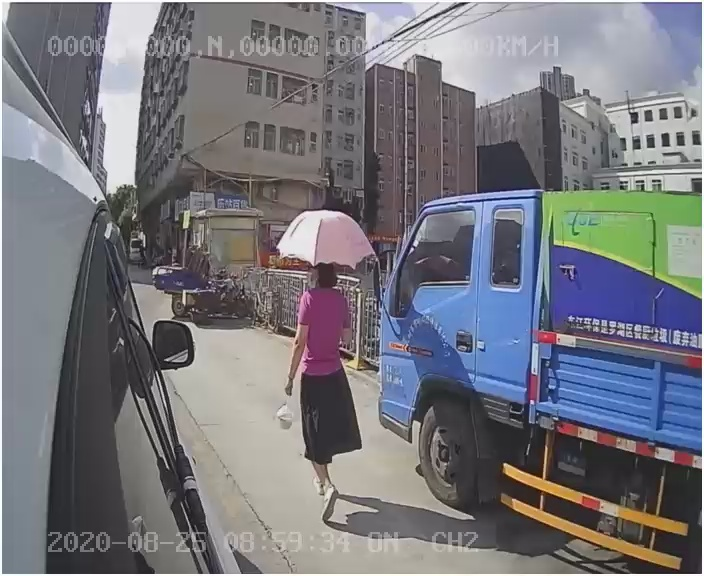person: (273, 259, 370, 519)
